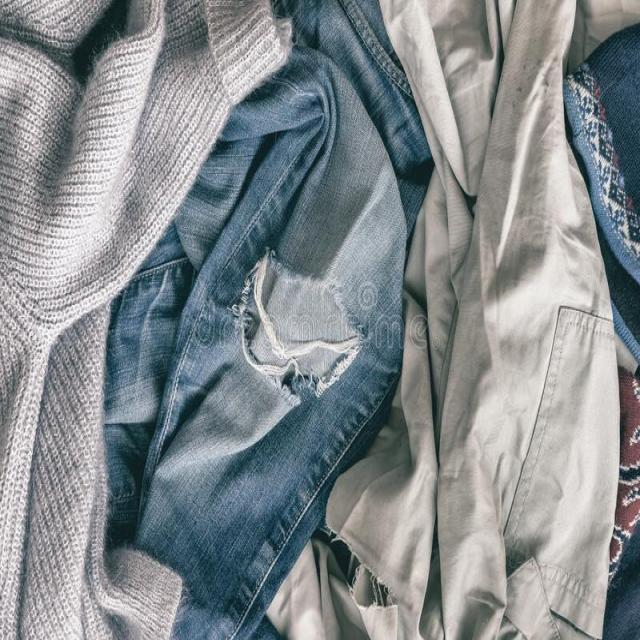clothes: (68, 144, 570, 537)
